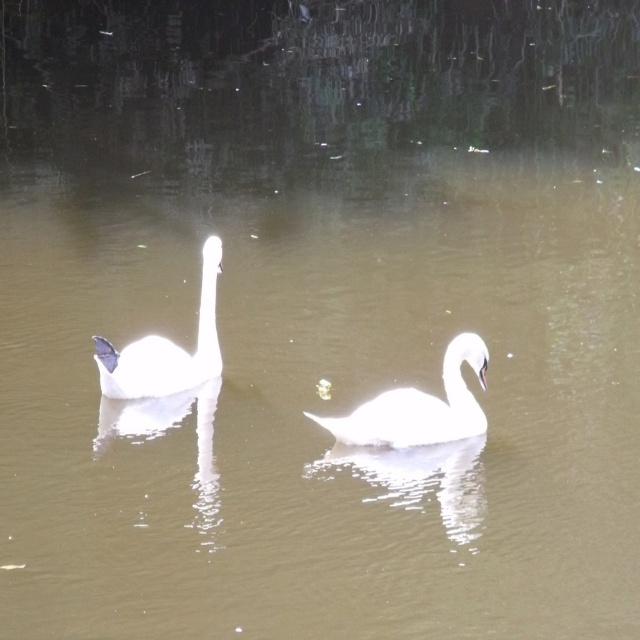Duck: (313, 328, 501, 466), (86, 233, 226, 408)
